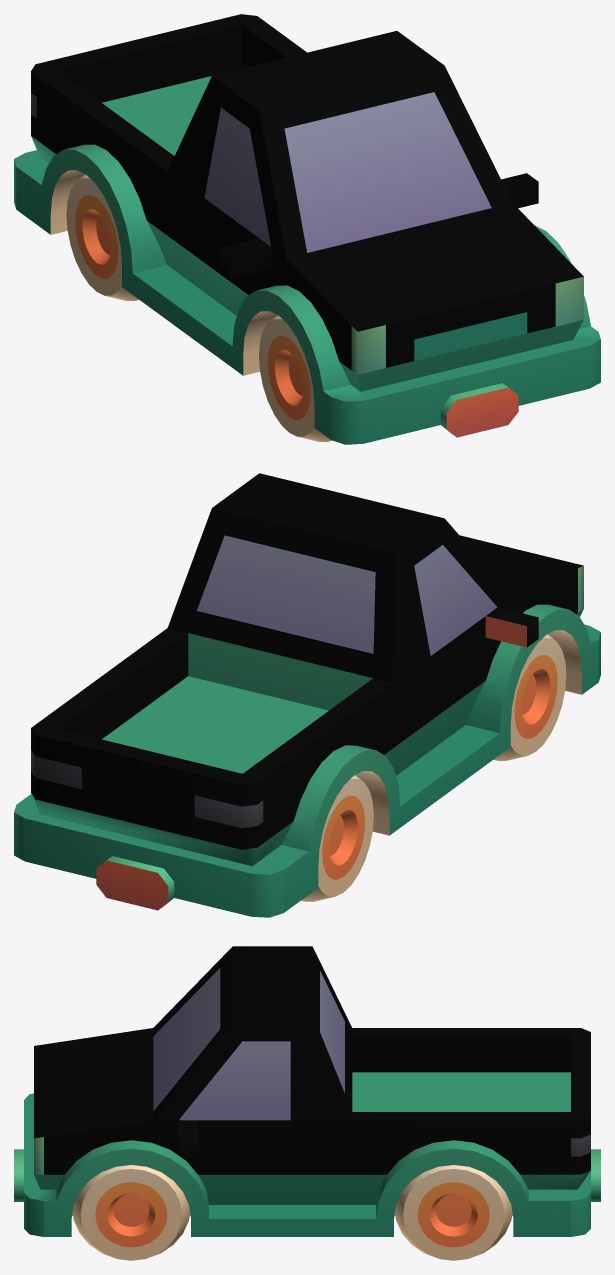
Rendered from truck.glb.
3 renders of one model, top to bottom at view 1: azimuth 30°, elevation 25°; view 2: azimuth 150°, elevation 25°; view 3: azimuth 270°, elevation 25°, orthographic. The views are drawn at different scales.
Parts seen in each view (by area): view 1: body, wheel-front-right, wheel-back-right; view 2: body, wheel-front-right, wheel-back-right; view 3: body, wheel-back-left, wheel-front-left.
Part boxes in pixels (box(x1,y1,x2,y2)): body: box(14, 14, 600, 444); wheel-front-right: box(259, 315, 331, 441); wheel-back-right: box(66, 174, 138, 300); body: box(14, 473, 600, 917); wheel-front-right: box(493, 634, 566, 760); wheel-back-right: box(301, 775, 373, 901); body: box(14, 946, 600, 1236); wheel-back-left: box(395, 1165, 512, 1260); wheel-front-left: box(72, 1165, 189, 1260).
Bounding box in the file's own units: 1.5 × 1.3 × 2.95.
Materials: 1 (1 with a texture image).
